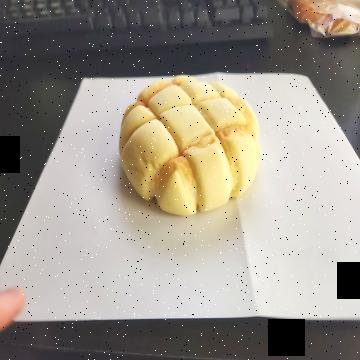melon_bread: (119, 74, 260, 219)
